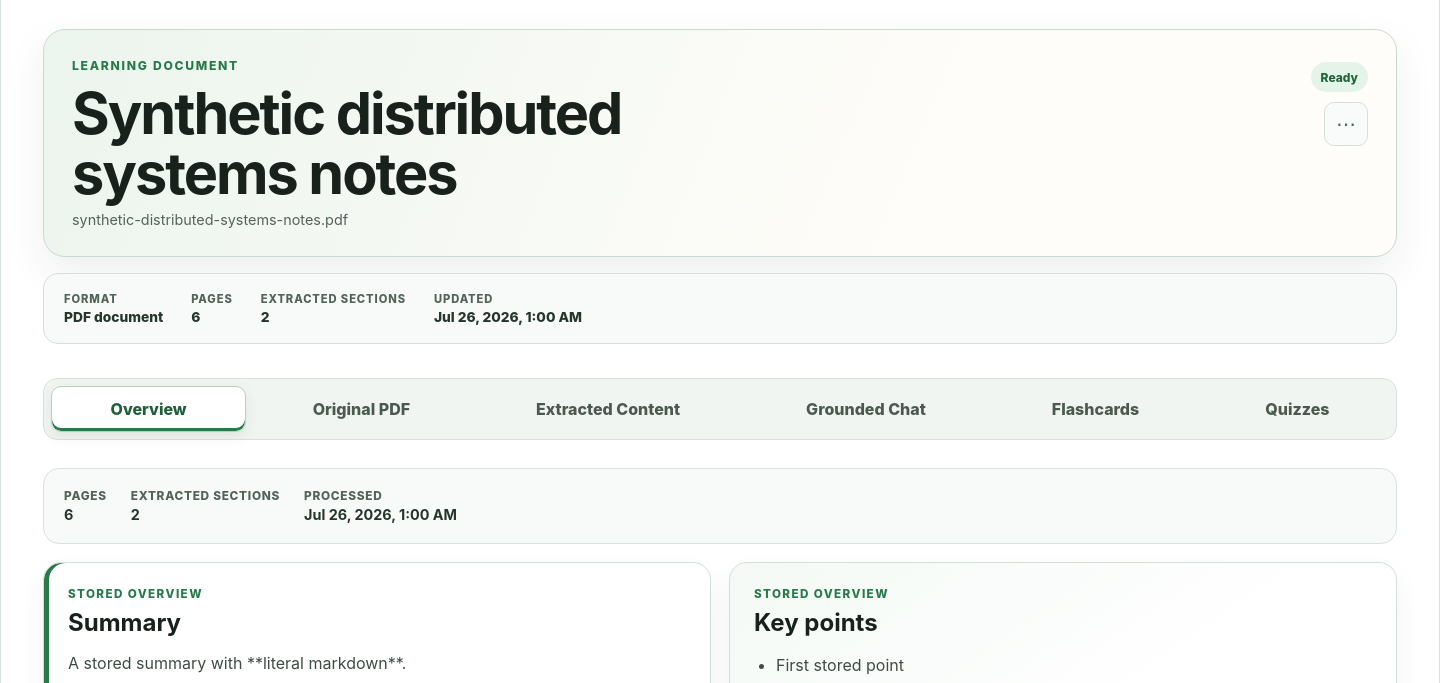
Test case: Learning document workspace › offers owned conversations only for a ready document
What coordinates should you click on to do the following:
click the tab "Grounded Chat"
I would click on:
 (866, 409)
Its box is [747, 386, 985, 432].
(page scrolled)
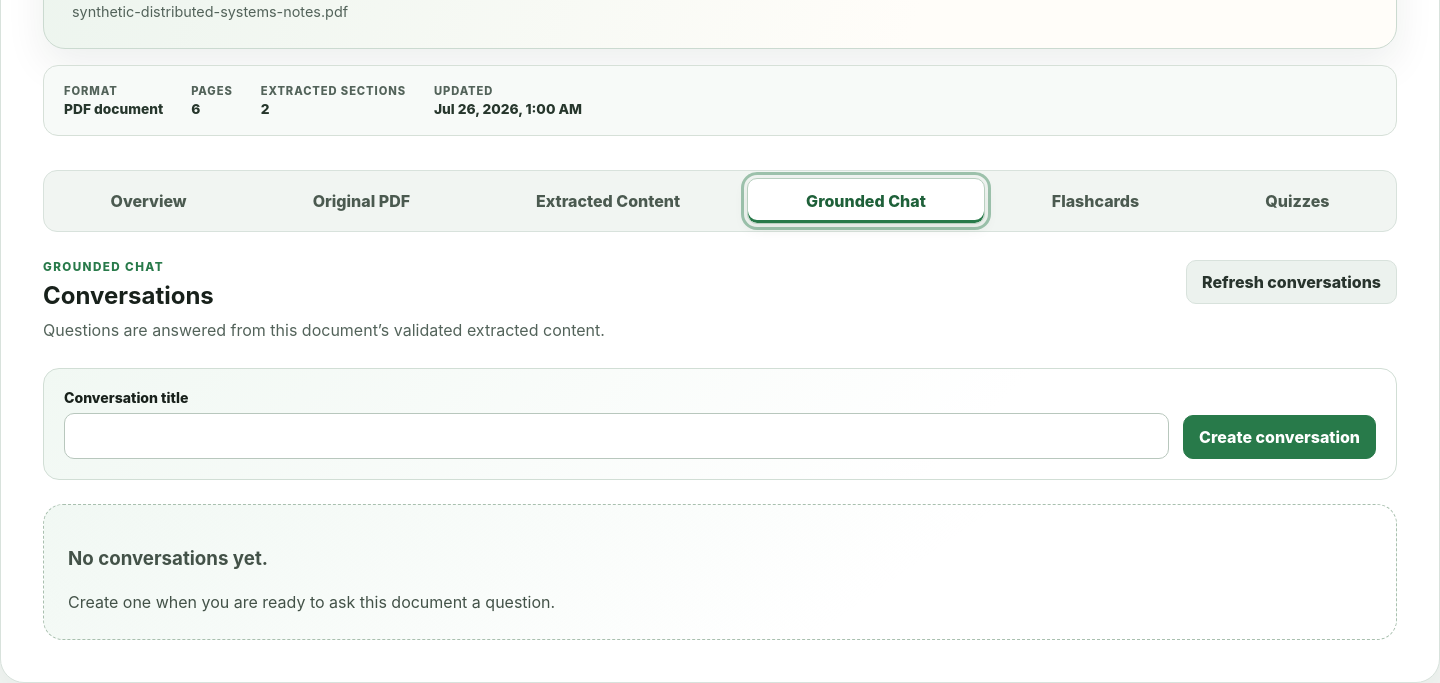
Expected: the heading "Conversations" is shown, [43, 281, 214, 310]
Expected: the heading "No conversations yet." is shown, [68, 547, 268, 570]
